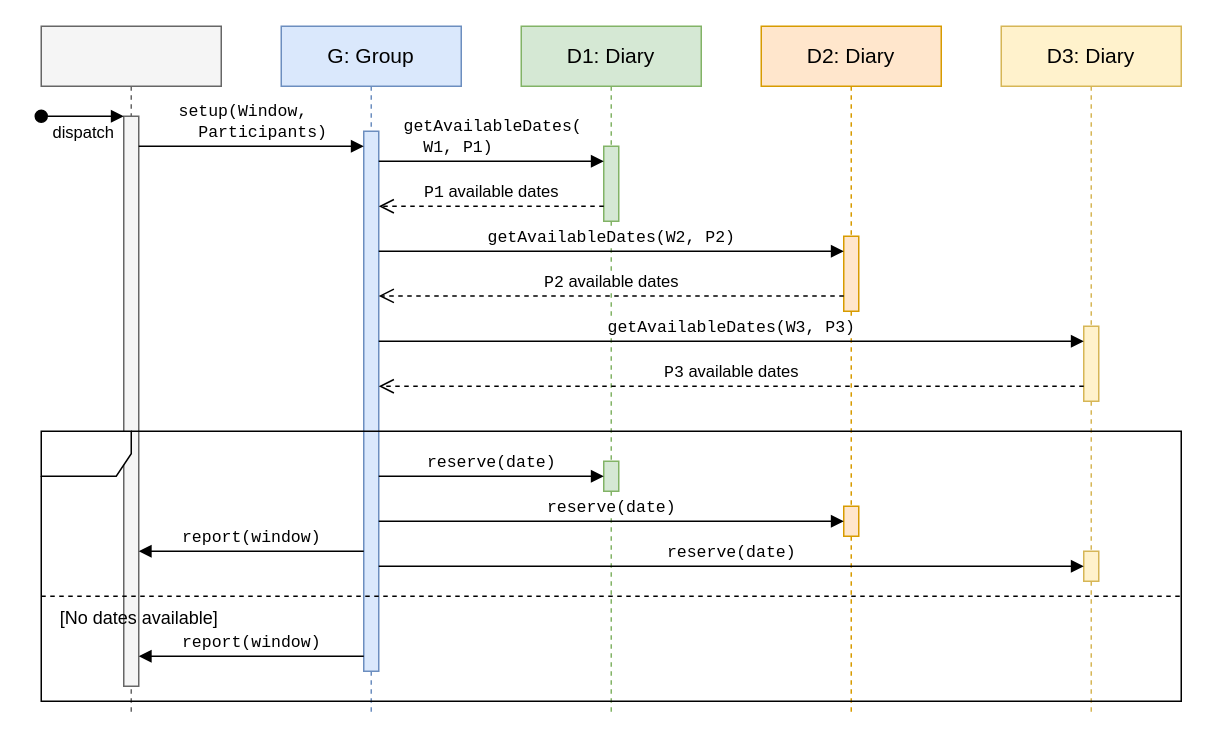
The diagram is 1209 pixels wide and 743 high, and some of its shapes have lost their labels. Each missing label, with the box of its shape:
alt: (40, 430, 1181, 701)
Organizer: (40, 25, 221, 716)
